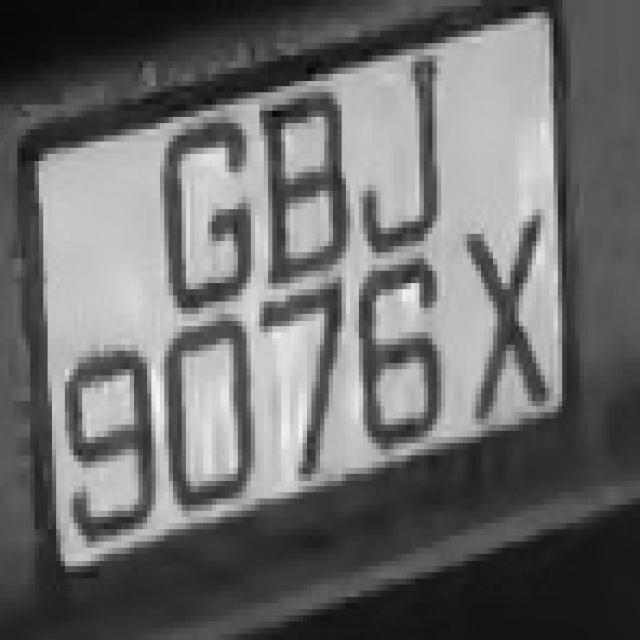0: (164, 302, 264, 510)
6: (350, 222, 454, 468)
7: (242, 258, 359, 504)
9: (39, 320, 160, 548)
B: (242, 80, 355, 289)
G: (143, 105, 260, 332)
J: (354, 37, 458, 265)
X: (445, 185, 558, 443)
